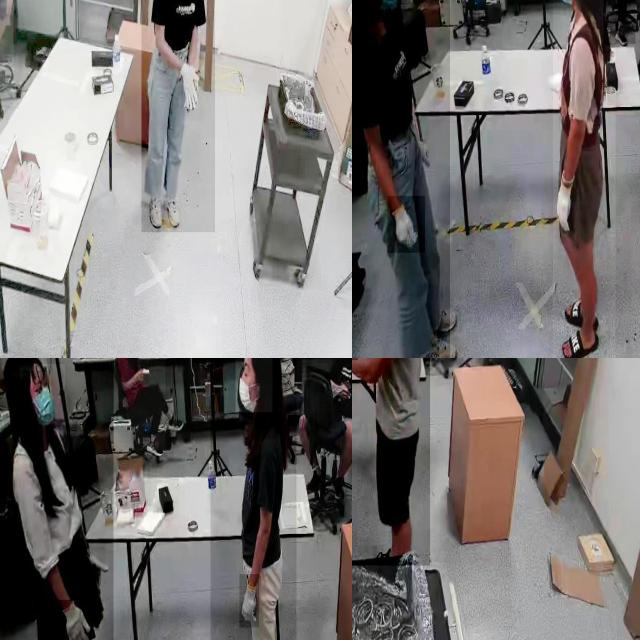face_mask: (20, 364, 65, 425), (235, 358, 272, 412), (374, 0, 401, 22), (549, 0, 580, 12)
hand_glove: (388, 196, 426, 254), (552, 170, 582, 232), (181, 57, 203, 122), (59, 599, 92, 640), (240, 574, 260, 628)
hand_noglove: (335, 380, 349, 401), (135, 366, 149, 381)
head_nohelmet: (1, 358, 44, 370)
person: (352, 0, 450, 358), (0, 358, 114, 640), (210, 358, 297, 640), (553, 0, 616, 358), (141, 0, 215, 233), (352, 358, 430, 566), (294, 358, 352, 501), (114, 358, 166, 451), (603, 0, 636, 44)
shoes: (423, 296, 458, 338), (413, 332, 458, 358), (163, 188, 183, 230), (146, 187, 164, 231)
